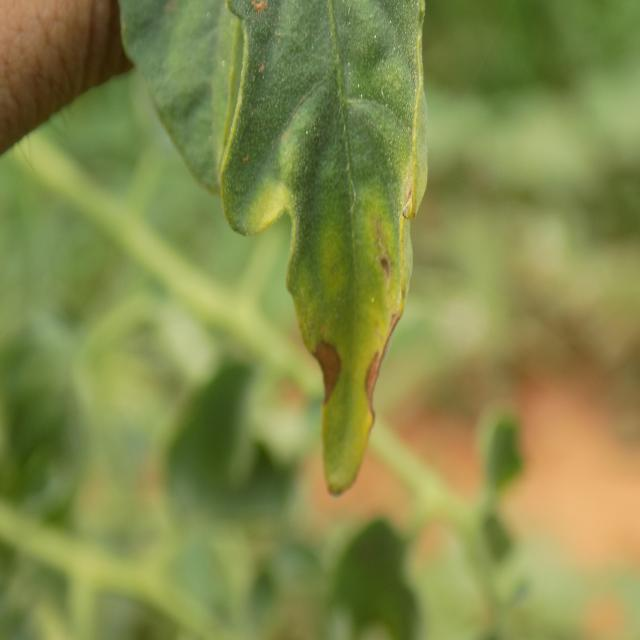tomato_early blight: (114, 0, 428, 506)
